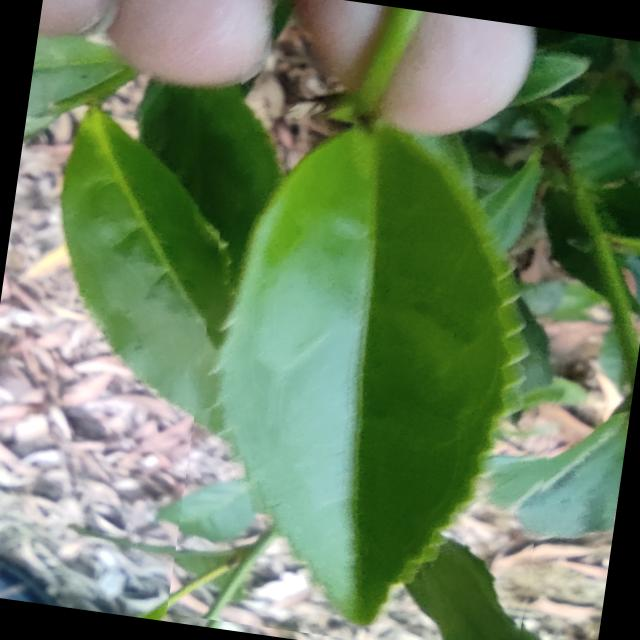Category C(4-7 days): (166, 39, 604, 640)
